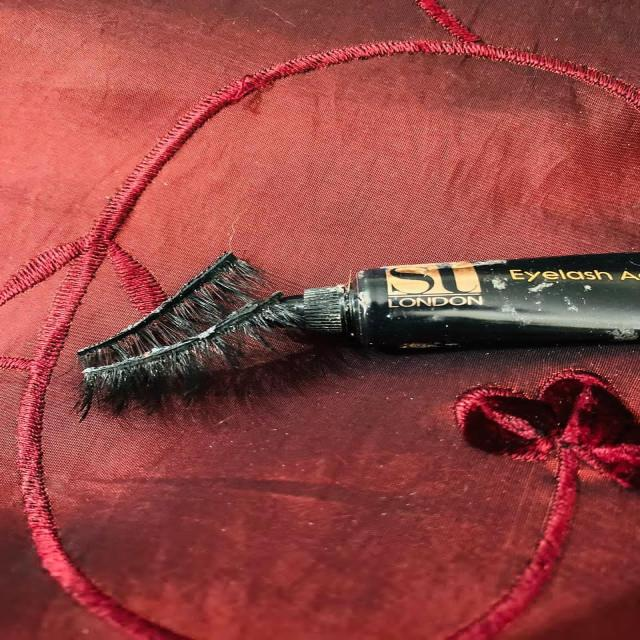eyelash curler: (76, 286, 314, 420), (55, 234, 272, 374)
